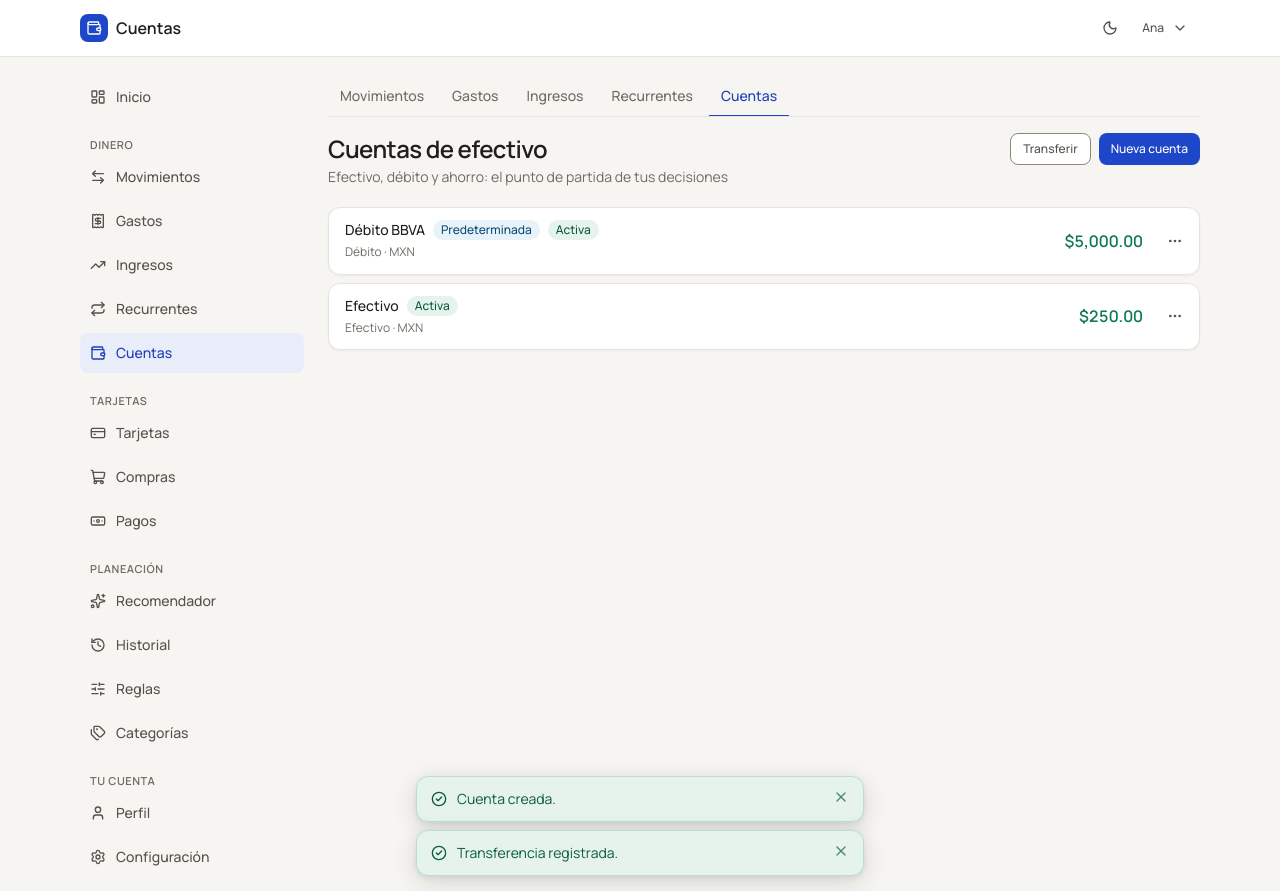
it: cuentas de efectivo › muestra el error al intentar eliminar una cuenta con saldo
Click the button named "Más acciones de Débito BBVA" at (1175, 241), box [1159,225,1191,257]
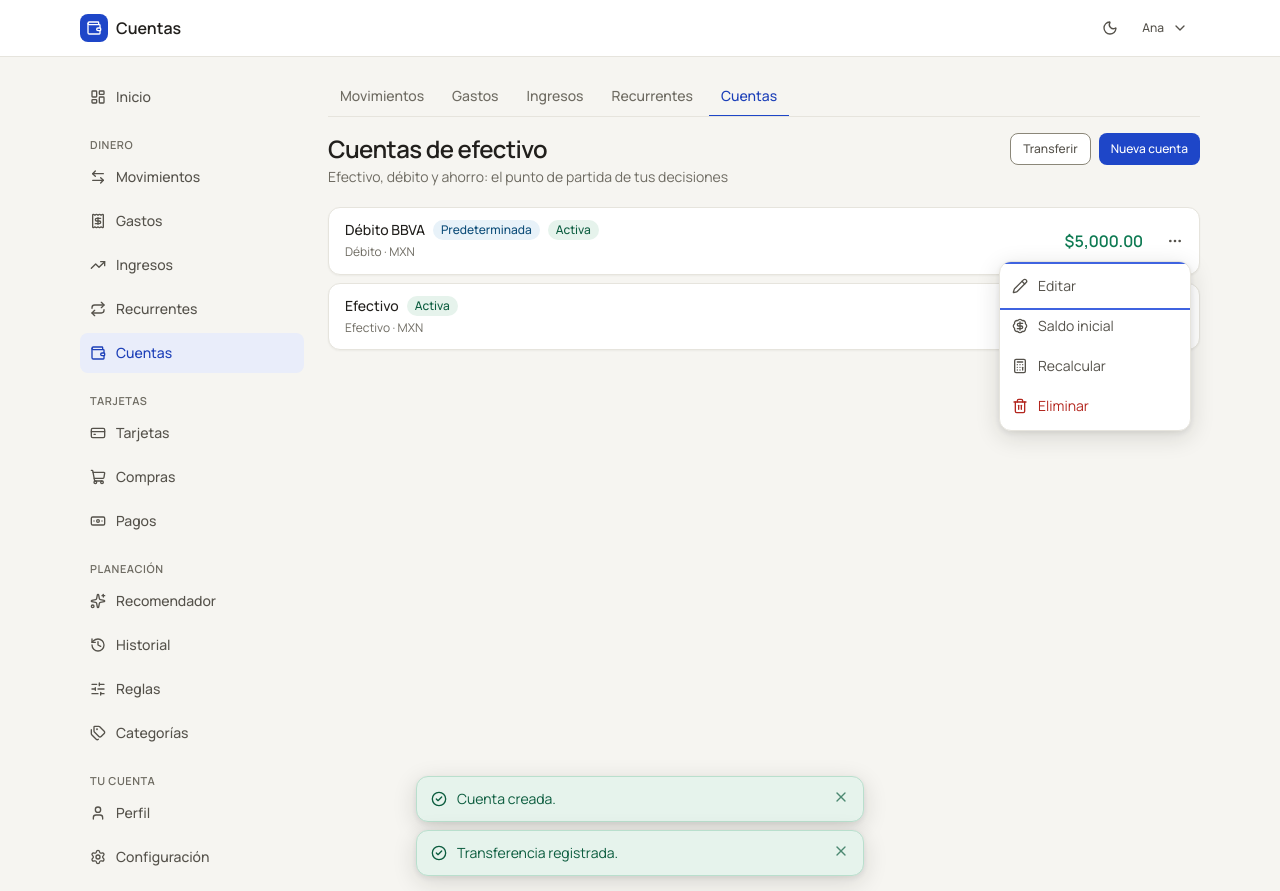
Click the menu item "Eliminar" at (1095, 406), box [1000,386,1190,426]
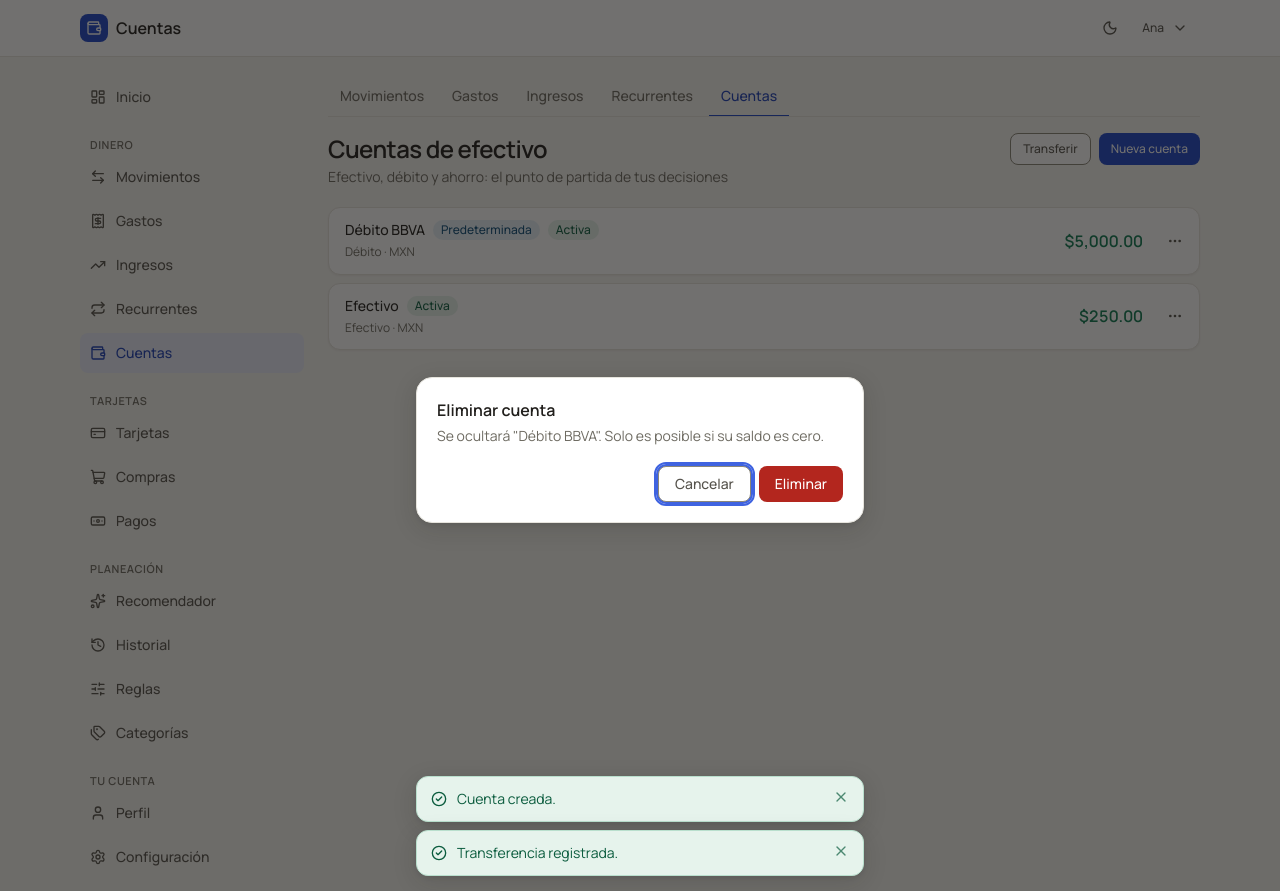
Click the button "Eliminar" at (801, 484), box [759,466,843,502]
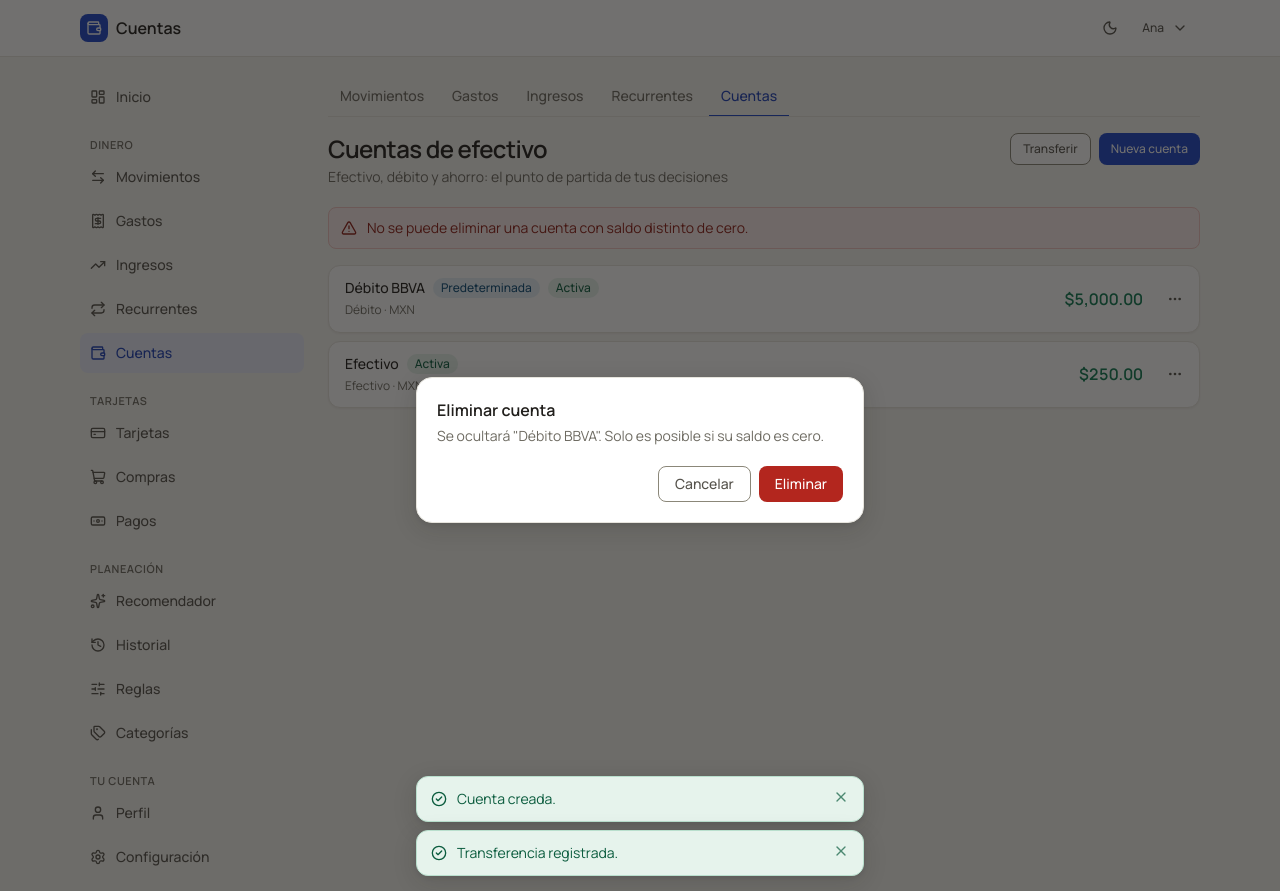
Result: the text "No se puede eliminar una cuenta con saldo distinto de cero." is shown at [367,218,748,238]
